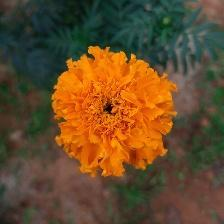marigold: (51, 46, 178, 178)
